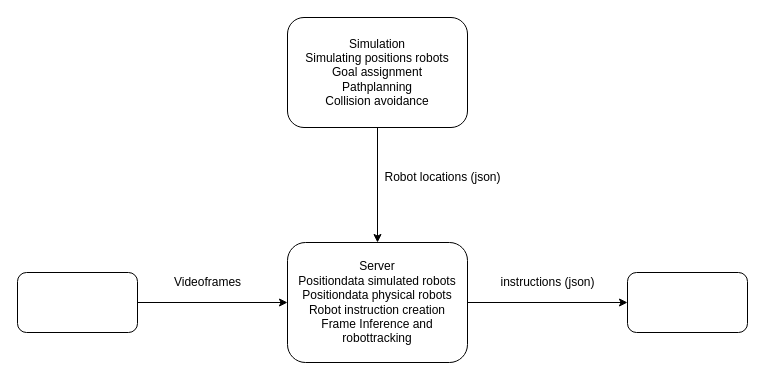
The diagram is 765 pixels wide and 380 high, and some of its shapes have lost their labels. The centre of each missing label's shape, as x and y in pixels:
"Camera" goes at (x=77, y=302).
"Physical Robots Recieve instructions Interpret instructions" goes at (x=687, y=302).
